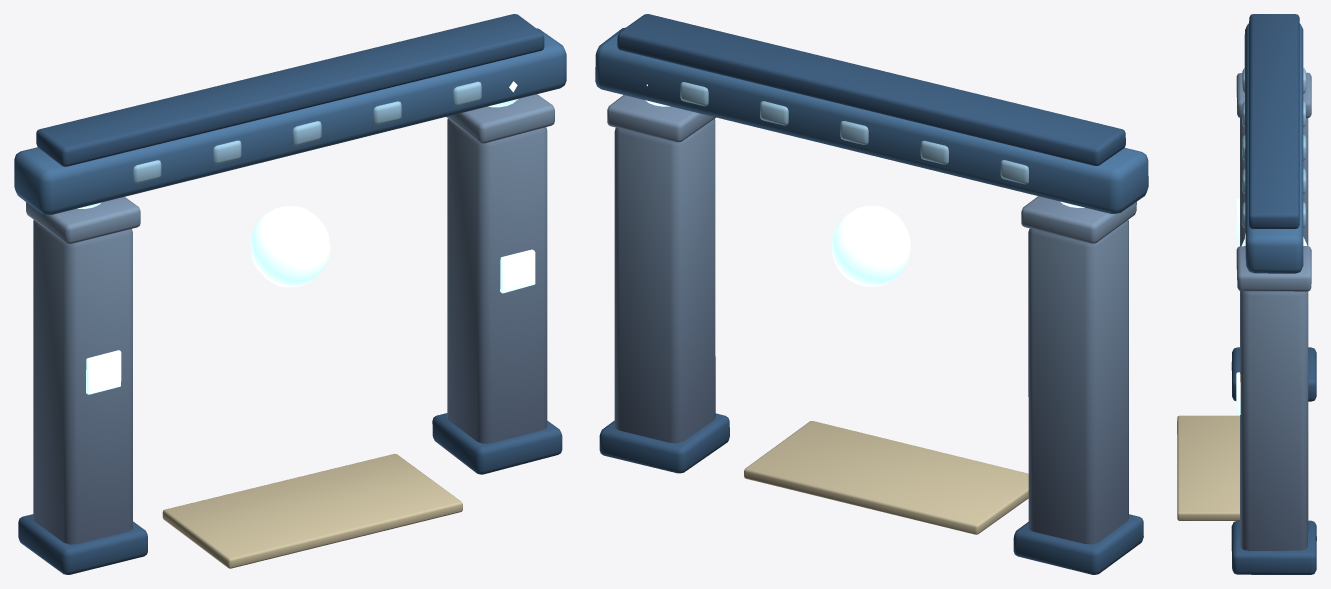
3 views of the same model, side by side, from view 1: azimuth 30°, elevation 25°; view 2: azimuth 150°, elevation 25°; view 3: azimuth 270°, elevation 25° (orthographic). The views are drawn at different scales.
Visible parts, largest first — view 1: gate_02956dbf; view 2: gate_02956dbf; view 3: gate_02956dbf.
Boxes of the visible parts, box(x1,y1,x2,y2) form: gate_02956dbf: box(14, 14, 566, 574); gate_02956dbf: box(595, 14, 1148, 574); gate_02956dbf: box(1177, 14, 1316, 574).
Bounding box in the file's own units: 5.4 × 4.11 × 1.44.
